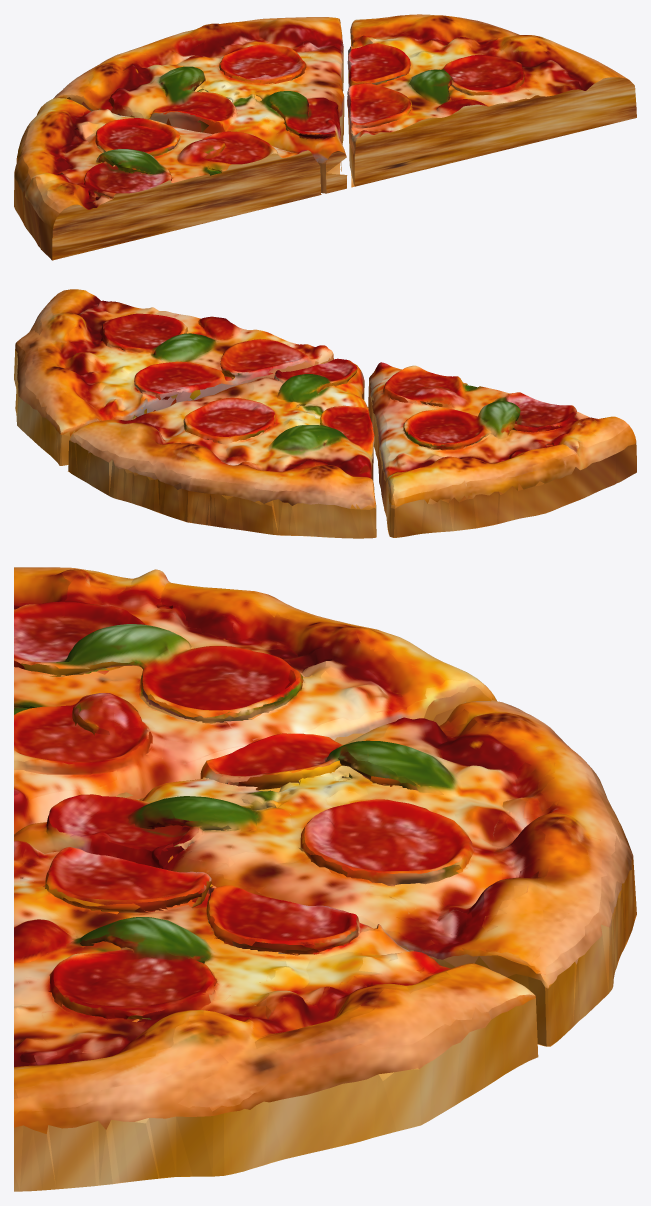
The picture shows the model from 3 angles, top to bottom: view 1: azimuth 30°, elevation 25°; view 2: azimuth 150°, elevation 25°; view 3: azimuth 270°, elevation 25°; orthographic projection. The views are drawn at different scales.
Parts seen in each view (by area): view 1: geometry_0; view 2: geometry_0; view 3: geometry_0.
Boxes of the visible parts, bbox=[...] form: geometry_0: bbox=[14, 14, 636, 260]; geometry_0: bbox=[14, 289, 636, 538]; geometry_0: bbox=[14, 567, 636, 1191].
Bounding box in the file's own units: 0.2981 × 0.0301 × 0.1445.
2 materials, 2 textured.
